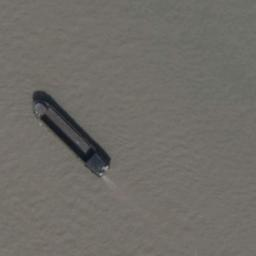boat: (31, 98, 111, 177)
